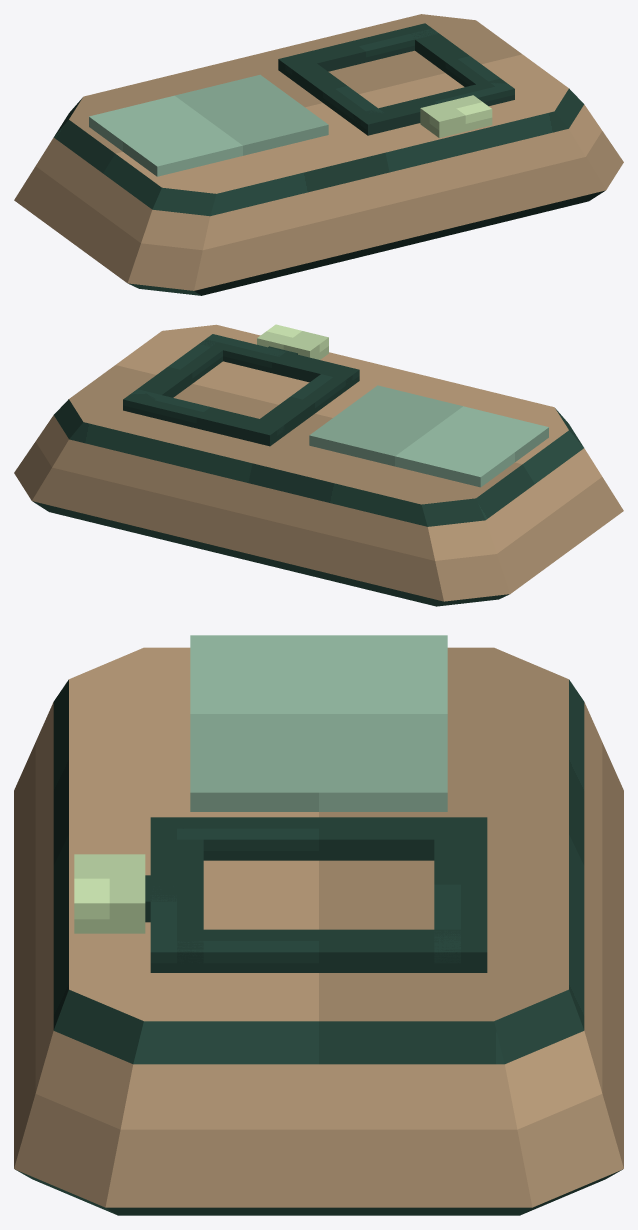
The model's file is yuanying_qingdi_ingot.obj.
3 renders of one model, top to bottom at view 1: azimuth 30°, elevation 25°; view 2: azimuth 150°, elevation 25°; view 3: azimuth 270°, elevation 25°, orthographic. The views are drawn at different scales.
Visible parts, largest first — view 1: ingot_body, wood_ingot_jade_window, wood_ingot_ring_0, wood_ingot_ring_1, wood_ingot_ring_2, wood_ingot_ring_3, wood_ingot_bud; view 2: ingot_body, wood_ingot_jade_window, wood_ingot_ring_0, wood_ingot_ring_1, wood_ingot_ring_2, wood_ingot_ring_3, wood_ingot_bud; view 3: ingot_body, wood_ingot_jade_window, wood_ingot_ring_3, wood_ingot_ring_2, wood_ingot_ring_0, wood_ingot_ring_1, wood_ingot_bud, wood_ingot_root.
Boxes of the visible parts, box(x1,y1,x2,y2) form: ingot_body: box(14, 14, 623, 295); wood_ingot_jade_window: box(89, 74, 328, 176); wood_ingot_ring_0: box(278, 23, 438, 79); wood_ingot_ring_1: box(353, 78, 514, 135); wood_ingot_ring_2: box(285, 59, 383, 129); wood_ingot_ring_3: box(410, 28, 506, 89); wood_ingot_bud: box(420, 95, 492, 137); ingot_body: box(14, 324, 623, 606); wood_ingot_jade_window: box(309, 385, 548, 487); wood_ingot_ring_0: box(123, 389, 284, 446); wood_ingot_ring_1: box(200, 334, 359, 390); wood_ingot_ring_2: box(253, 369, 352, 440); wood_ingot_ring_3: box(131, 339, 227, 400); wood_ingot_bud: box(257, 324, 328, 359); ingot_body: box(14, 647, 623, 1215); wood_ingot_jade_window: box(190, 635, 447, 811); wood_ingot_ring_3: box(177, 929, 460, 972); wood_ingot_ring_2: box(177, 817, 460, 860); wood_ingot_ring_0: box(434, 817, 487, 972); wood_ingot_ring_1: box(150, 817, 203, 972); wood_ingot_bud: box(74, 854, 145, 933); wood_ingot_root: box(145, 875, 198, 922).
Size of the model in its own units: 0.38 by 0.0769 by 0.215.
